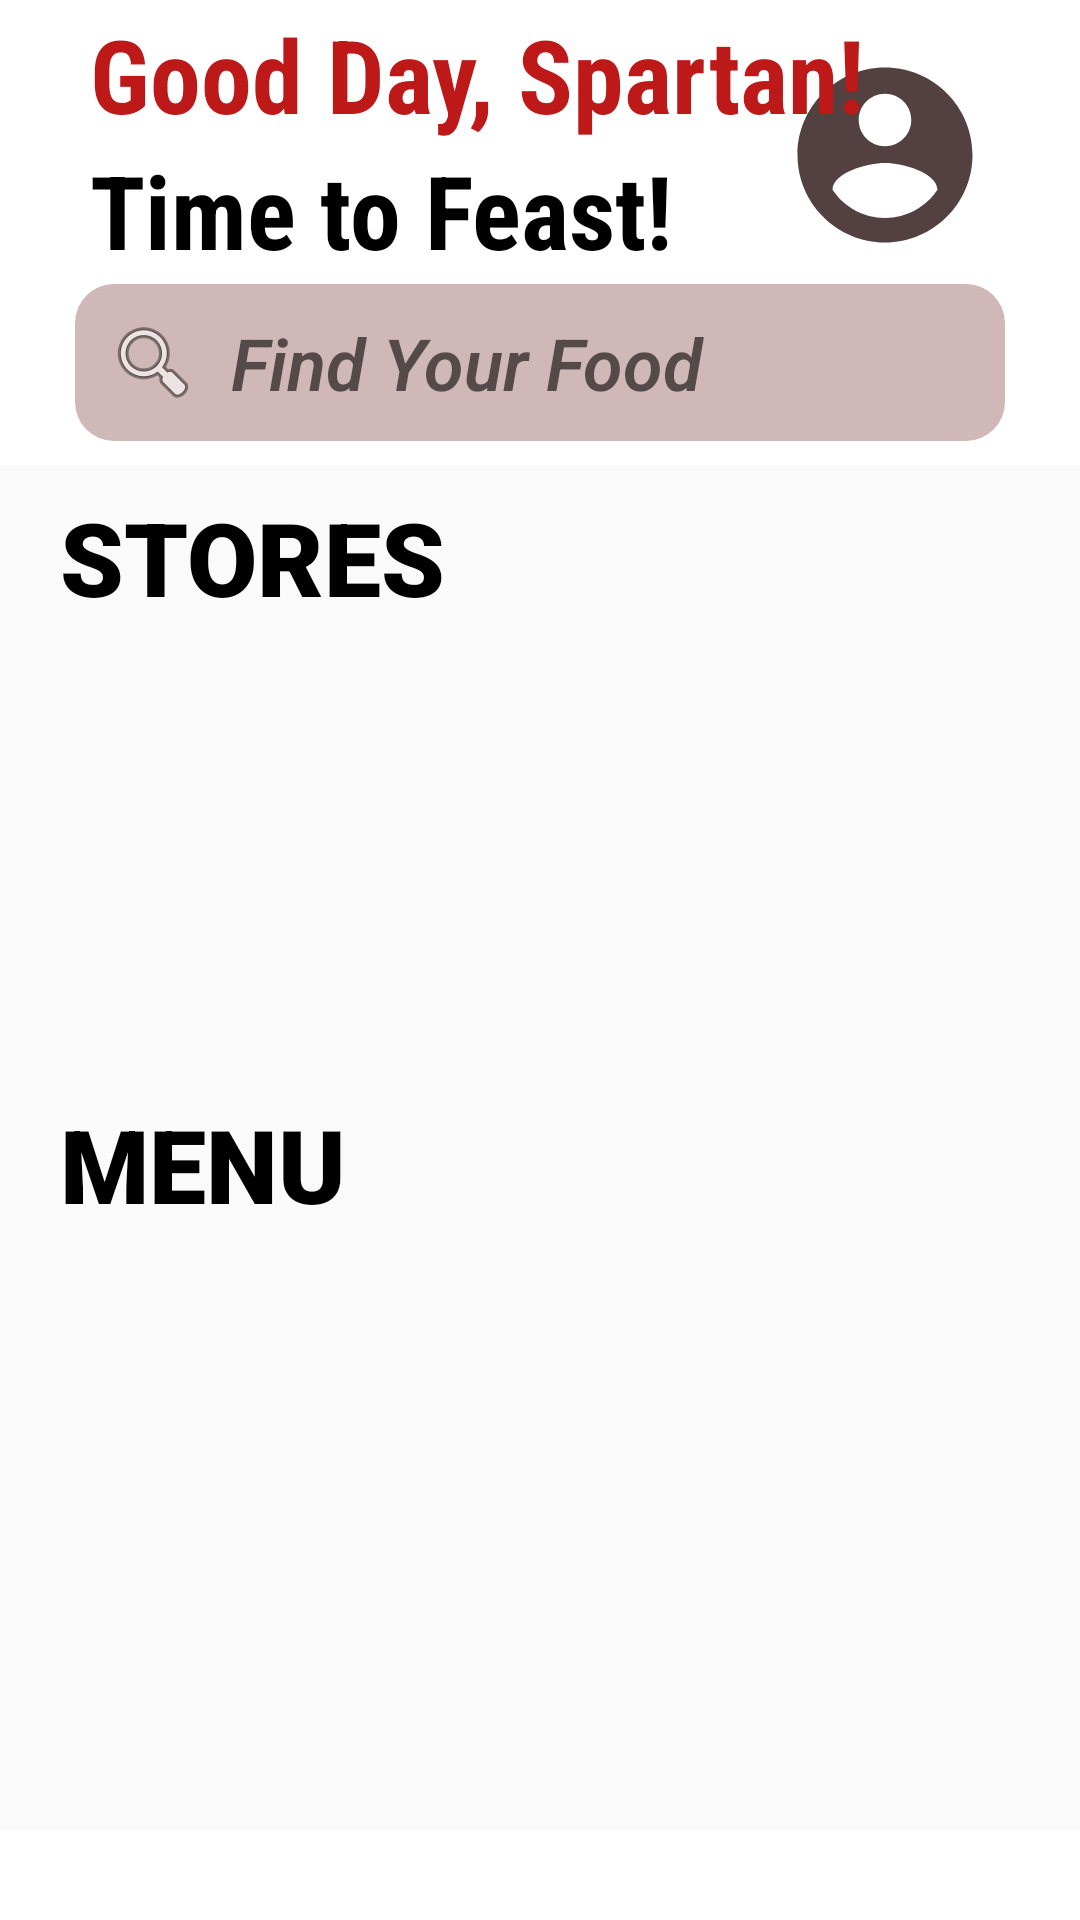

Where to tap for icons on this 1080w x 1920h app screen, as (x,y):
profile: (876,145)
